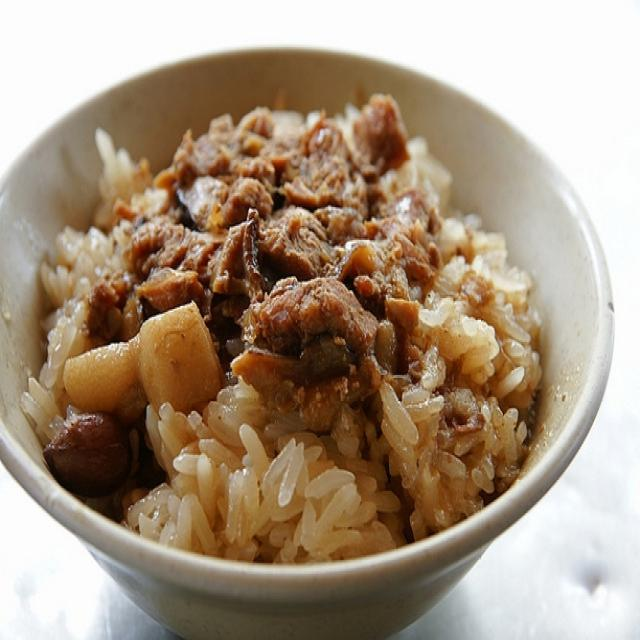米饭主食: (5, 31, 608, 615)
